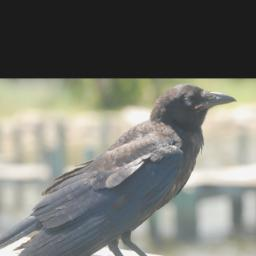Crow: (0, 84, 239, 256)
